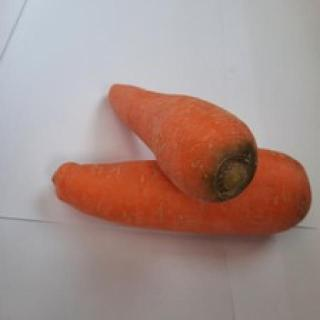carrot: (53, 154, 313, 234), (107, 82, 257, 204)
